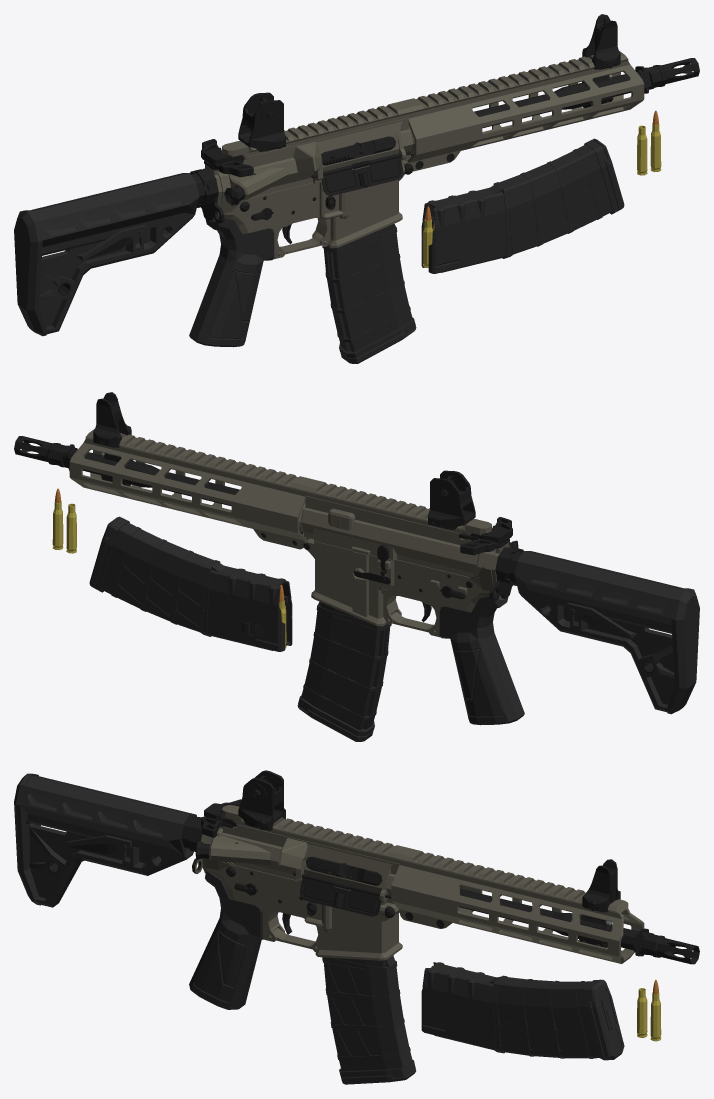
The model's file is low-poly_uar15_s1.glb.
3 renders of one model, top to bottom at view 1: azimuth 30°, elevation 25°; view 2: azimuth 150°, elevation 25°; view 3: azimuth 330°, elevation 25°, orthographic.
Visible parts, largest first — view 1: uar15 stock_16, ar15 30rnd mag (zbroyar)_14, uar15 handguard_17, uar15 lower_9, ar15 30rnd mag empty (zbroyar)_13, uar15 upper_11, uar15 grip_15, uar15 iron sight_18, uar15 dust cover_3, uar15 10.5in barrel_10, uar15 flash hider_12, uar15 charging handle_4 (+1 smaller); view 2: uar15 stock_16, ar15 30rnd mag (zbroyar)_14, uar15 handguard_17, uar15 lower_9, uar15 upper_11, ar15 30rnd mag empty (zbroyar)_13, uar15 grip_15, uar15 iron sight_18, uar15 10.5in barrel_10, uar15 flash hider_12, uar15 charging handle_4; view 3: ar15 30rnd mag (zbroyar)_14, uar15 stock_16, uar15 handguard_17, ar15 30rnd mag empty (zbroyar)_13, uar15 lower_9, uar15 upper_11, uar15 grip_15, uar15 iron sight_18, uar15 dust cover_3, uar15 10.5in barrel_10, uar15 flash hider_12, uar15 bolt_6 (+3 smaller).
Boxes of the visible parts, <box> form: uar15 stock_16: <box>14,173,199,336</box>; ar15 30rnd mag (zbroyar)_14: <box>421,138,624,273</box>; uar15 handguard_17: <box>400,51,644,171</box>; uar15 lower_9: <box>190,160,413,259</box>; ar15 30rnd mag empty (zbroyar)_13: <box>322,223,416,363</box>; uar15 upper_11: <box>222,101,414,205</box>; uar15 grip_15: <box>189,217,274,347</box>; uar15 iron sight_18: <box>238,14,620,151</box>; uar15 dust cover_3: <box>311,151,410,195</box>; uar15 10.5in barrel_10: <box>395,71,642,141</box>; uar15 flash hider_12: <box>635,58,699,93</box>; uar15 charging handle_4: <box>201,139,253,177</box>; uar15 stock_16: <box>514,551,699,714</box>; ar15 30rnd mag (zbroyar)_14: <box>89,516,292,651</box>; uar15 handguard_17: <box>69,429,313,549</box>; uar15 lower_9: <box>303,538,523,637</box>; uar15 upper_11: <box>299,479,518,577</box>; ar15 30rnd mag empty (zbroyar)_13: <box>297,601,391,741</box>; uar15 grip_15: <box>439,595,524,725</box>; uar15 iron sight_18: <box>93,392,475,529</box>; uar15 10.5in barrel_10: <box>71,449,239,505</box>; uar15 flash hider_12: <box>14,436,77,470</box>; uar15 charging handle_4: <box>459,517,512,555</box>; ar15 30rnd mag (zbroyar)_14: <box>421,962,624,1060</box>; uar15 stock_16: <box>14,773,196,907</box>; uar15 handguard_17: <box>391,848,644,963</box>; ar15 30rnd mag empty (zbroyar)_13: <box>322,955,416,1084</box>; uar15 lower_9: <box>181,817,402,960</box>; uar15 upper_11: <box>195,805,407,913</box>; uar15 grip_15: <box>189,870,262,1009</box>; uar15 iron sight_18: <box>238,770,620,912</box>; uar15 dust cover_3: <box>293,872,391,916</box>; uar15 10.5in barrel_10: <box>459,888,637,950</box>; uar15 flash hider_12: <box>633,928,699,964</box>; uar15 bolt_6: <box>306,856,382,885</box>.
Bounding box in the file's own units: 6.79 × 2.74 × 0.7263.
